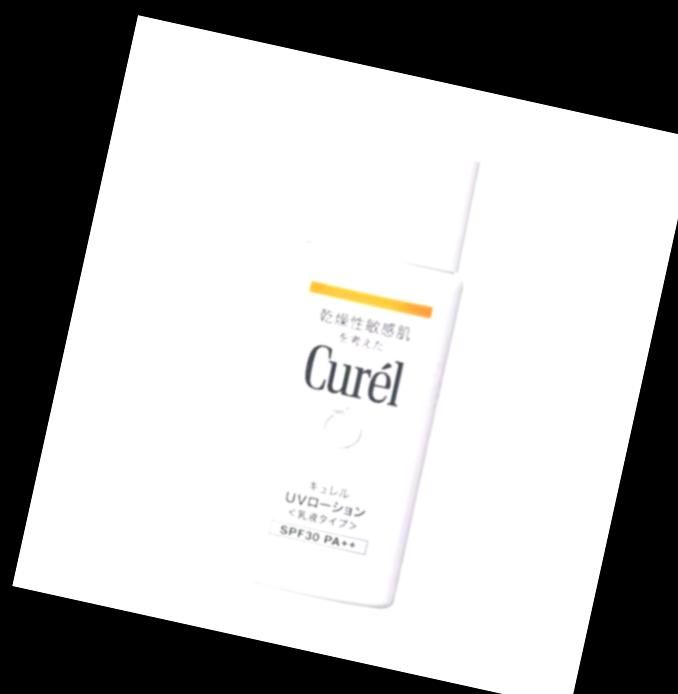cosmetic: (220, 120, 491, 608)
